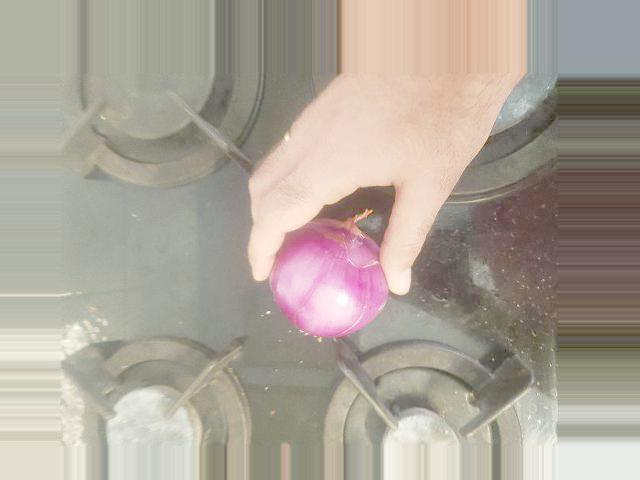onion: (172, 277, 286, 408)
